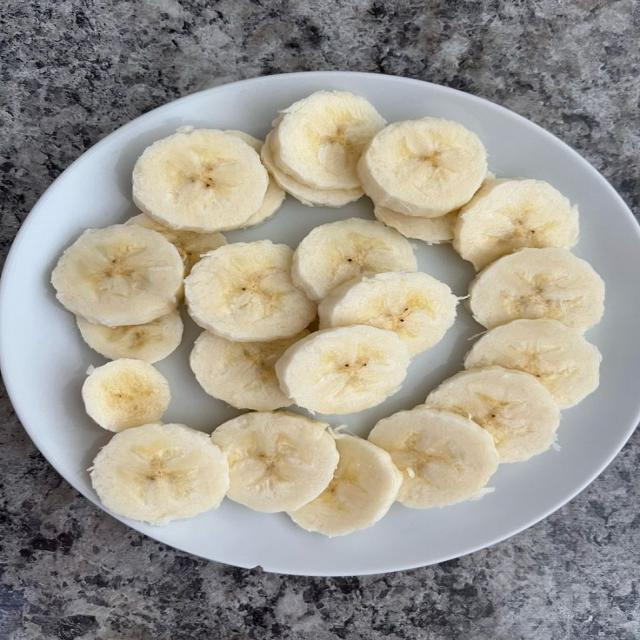banana slice: (134, 128, 268, 231), (90, 425, 228, 524), (52, 225, 184, 326), (369, 406, 499, 508), (186, 241, 316, 341), (358, 118, 486, 217), (427, 366, 559, 462), (212, 412, 338, 512), (465, 319, 601, 409), (276, 325, 409, 414), (319, 272, 458, 355), (290, 434, 402, 536), (454, 179, 578, 270), (469, 248, 604, 331), (272, 91, 386, 189), (293, 218, 416, 300), (190, 331, 309, 410), (261, 132, 363, 207), (82, 359, 170, 431), (126, 214, 226, 275), (77, 311, 183, 363), (374, 203, 459, 244), (374, 205, 457, 243), (243, 176, 285, 227)
